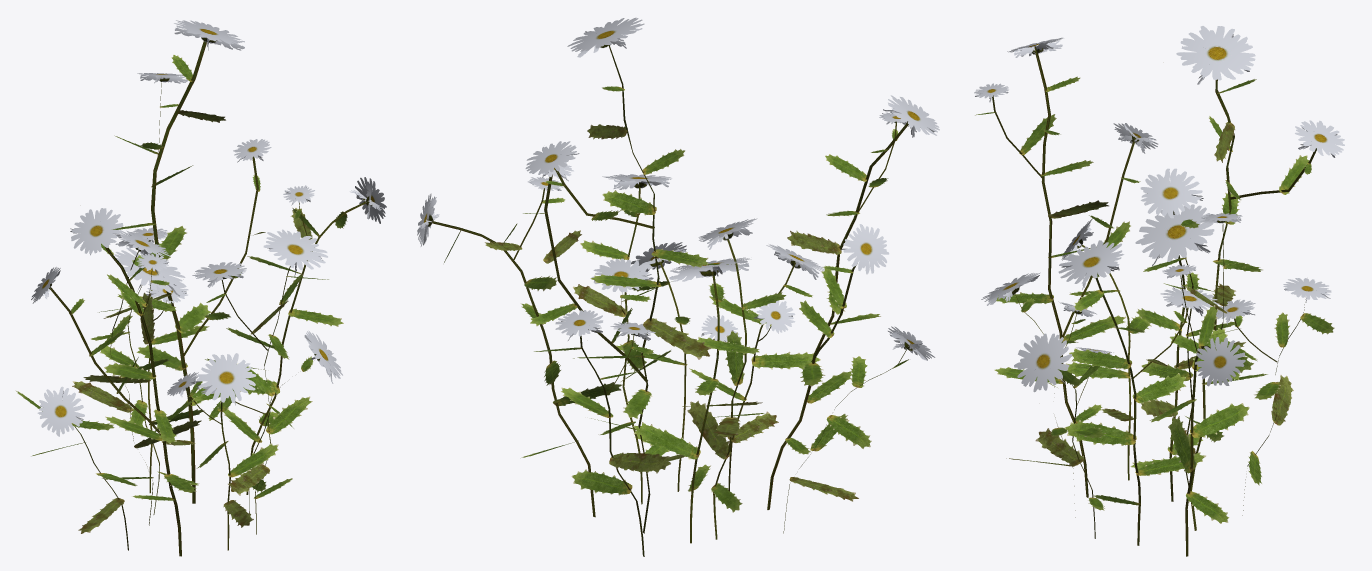
File: miracle-daisy-2.glb
The picture shows the model from 3 angles, left to right: view 1: azimuth 30°, elevation 25°; view 2: azimuth 150°, elevation 25°; view 3: azimuth 270°, elevation 25°; orthographic projection. The views are drawn at different scales.
Parts seen in each view (by area): view 1: Daisy_patch_small_3_LOD1_Daisy_main_mat_0; view 2: Daisy_patch_small_3_LOD1_Daisy_main_mat_0; view 3: Daisy_patch_small_3_LOD1_Daisy_main_mat_0.
Boxes of the visible parts, left/top/right/bottom form: Daisy_patch_small_3_LOD1_Daisy_main_mat_0: left=15, top=20, right=386, bottom=556; Daisy_patch_small_3_LOD1_Daisy_main_mat_0: left=417, top=17, right=939, bottom=556; Daisy_patch_small_3_LOD1_Daisy_main_mat_0: left=974, top=26, right=1344, bottom=556.
Bounding box in the file's own units: 0.4136 × 0.46 × 0.3169.
1 material, 1 textured.
